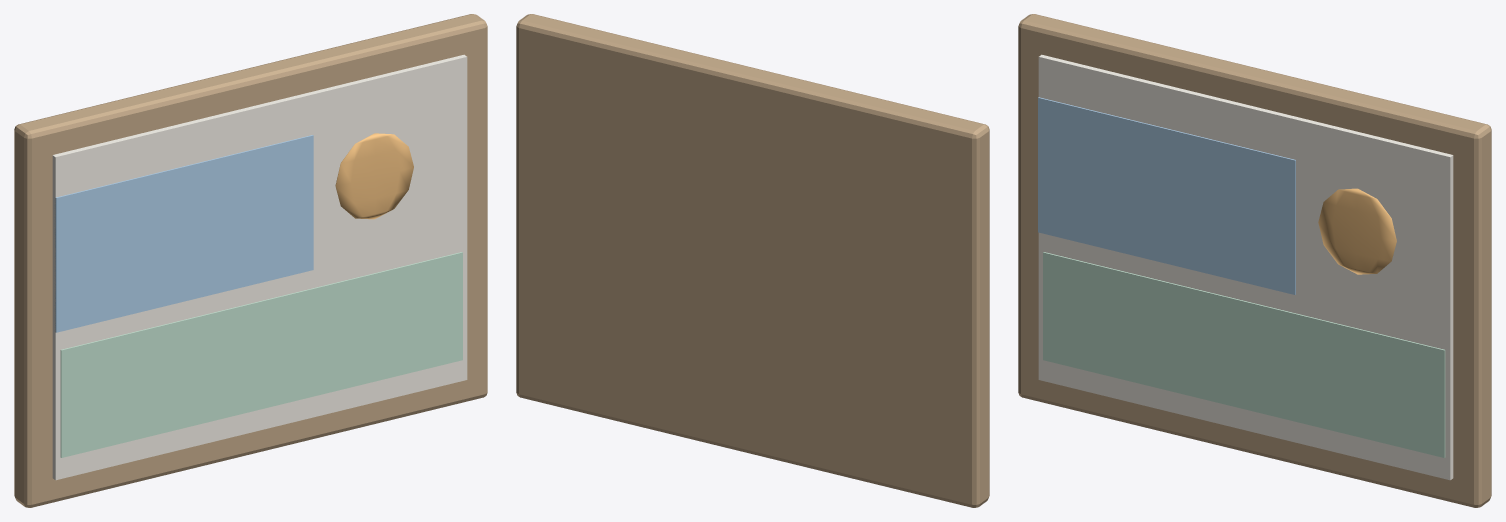
The model's file is quadro.glb.
3 views of the same model, side by side, from view 1: azimuth 30°, elevation 25°; view 2: azimuth 150°, elevation 25°; view 3: azimuth 330°, elevation 25° (orthographic).
Parts seen in each view (by area): view 1: quadro; view 2: quadro; view 3: quadro.
Boxes of the visible parts, x1,y1,x2,y2 form: quadro: (14,14,487,507); quadro: (516,14,989,507); quadro: (1018,14,1491,507).
Size of the model in its own units: 0.9 by 0.7 by 0.064.
